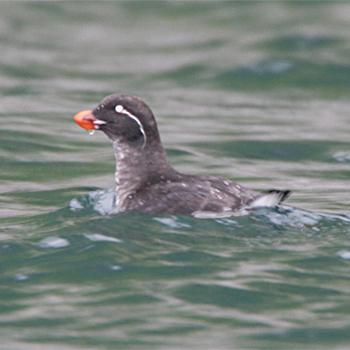007.Parakeet_Auklet: (71, 92, 292, 221)
